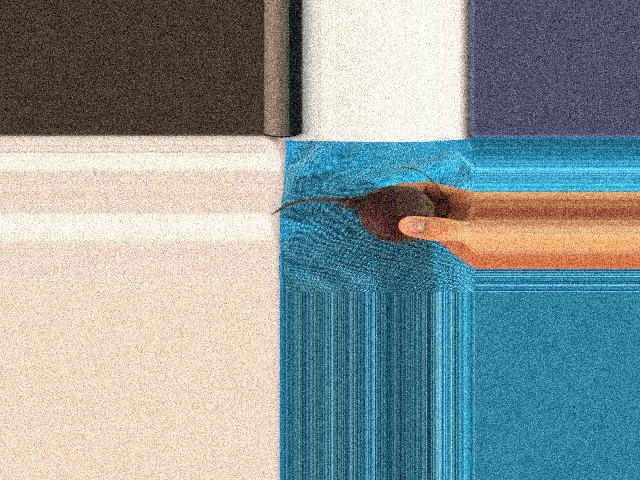beet: (270, 168, 448, 243)
